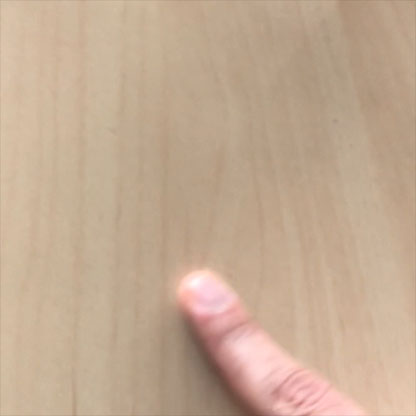fingertip: (164, 261, 247, 333)
